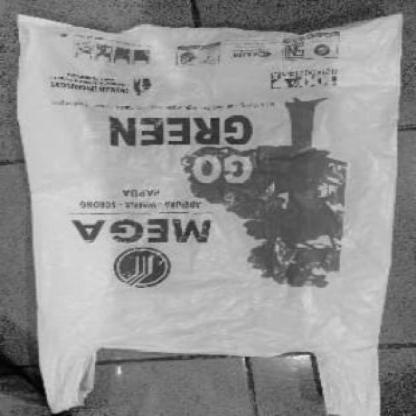objects: (10, 8, 412, 416)
